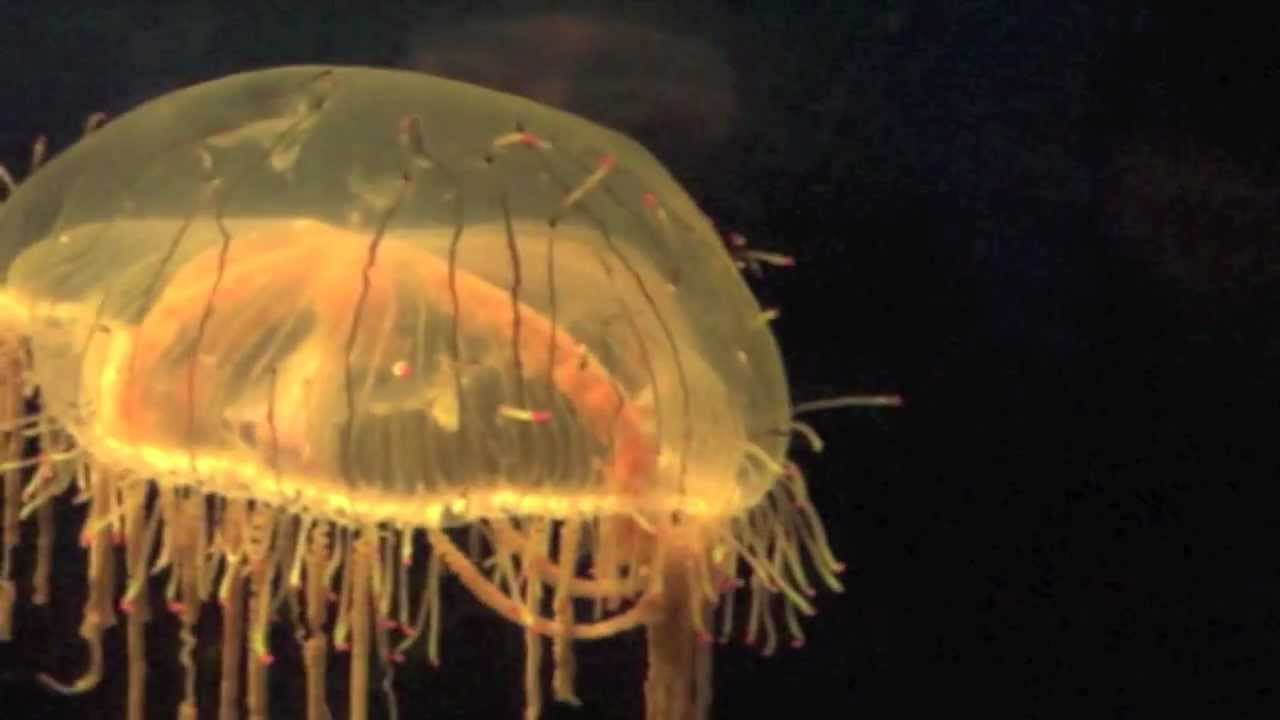jellyfish: (19, 59, 825, 699)
